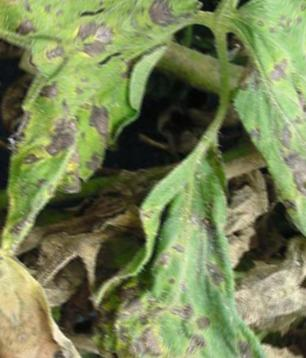Tomato leaf late blight: (0, 0, 269, 267), (56, 136, 278, 356), (200, 0, 306, 286)
